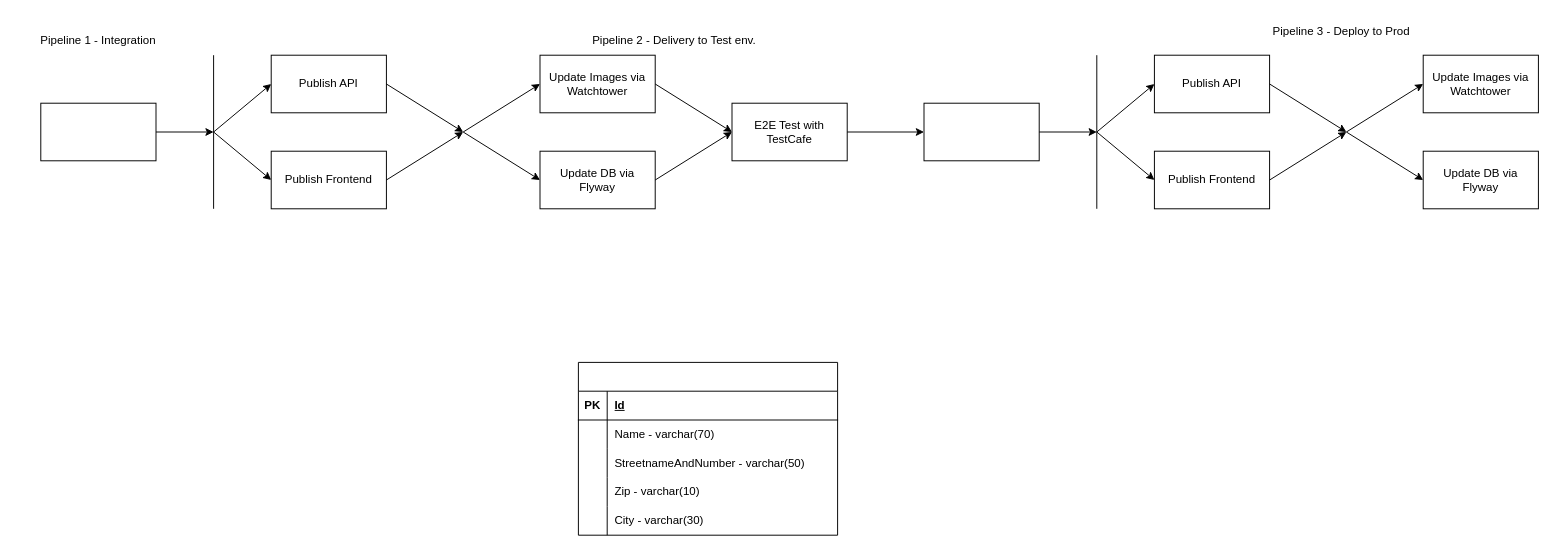
Some shapes in this 1555 by 552 pixel diagram are drawn without their labels. The box of each missing label's shape, as (x1, y1, x2, y2) in pixels:
Addresses: (577, 361, 838, 535)
Performance Tests: Spike/Load/Stress: (923, 102, 1039, 161)
Unit tests/Code analysis: (40, 102, 156, 161)
